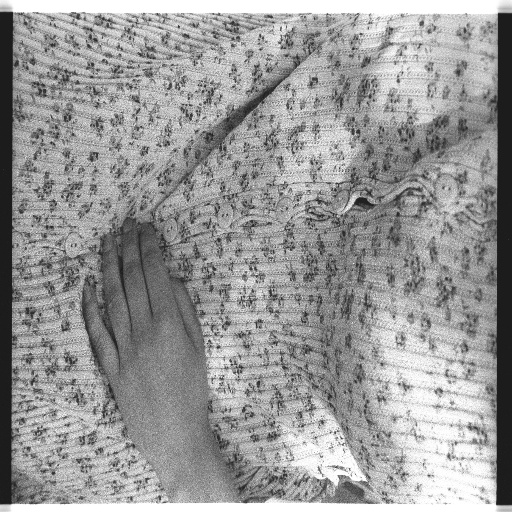hand: (73, 214, 227, 502)
